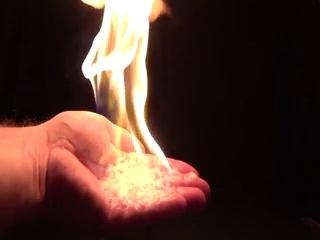Fire: (77, 1, 170, 183)
